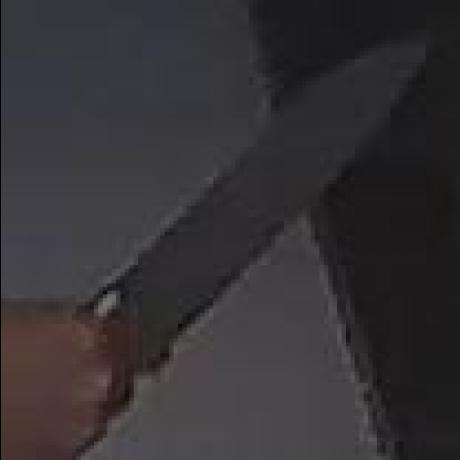weapon: (103, 27, 433, 359)
